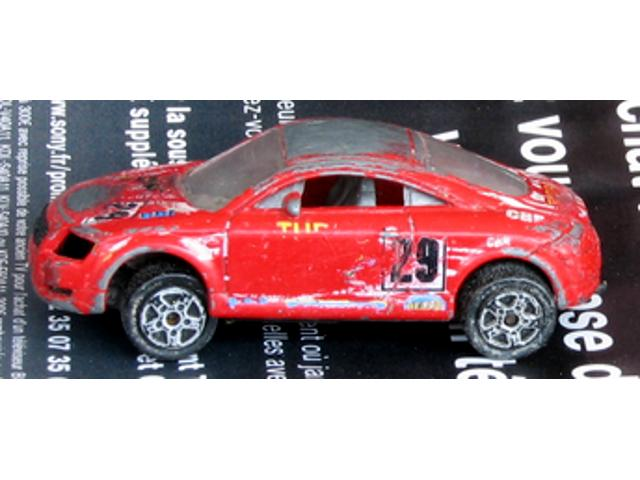toy-car: (27, 115, 604, 362)
